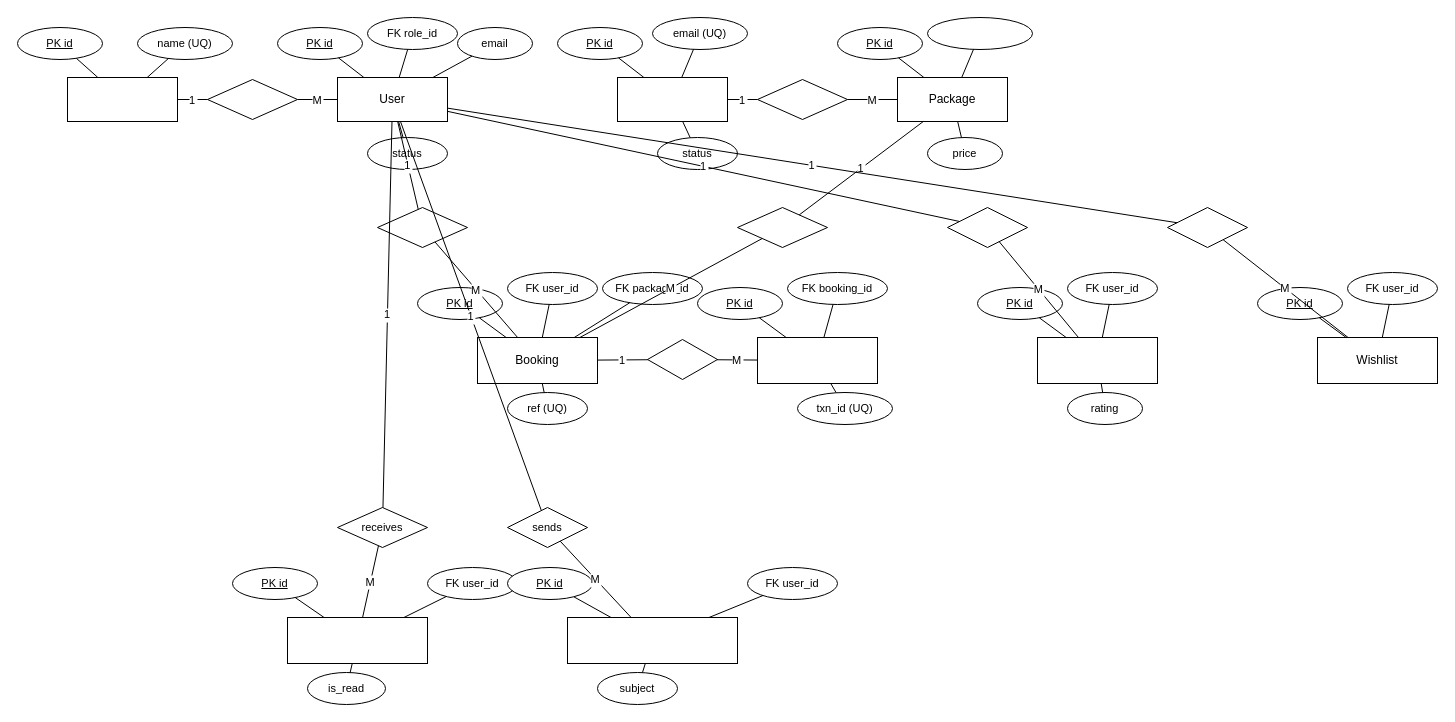
Some shapes in this 1455 by 722 pixel diagram are drawn without their labels. The centre of each missing label's shape, as x and y in pixels:
"assigns" belongs at point 252,99.
"ContactMessage" belongs at point 652,640.
"FK vendor_id" belongs at point 979,33.
"has" belongs at point 682,359.
"includes" belongs at point 782,227.
"Notification" belongs at point 357,640.
"Payment" belongs at point 817,360.
"places" belongs at point 422,227.
"publishes" belongs at point 802,99.
"Review" belongs at point 1097,360.
"Role" belongs at point 122,99.
"saves" belongs at point 1207,227.
"Vendor" belongs at point 672,99.
"writes" belongs at point 987,227.
